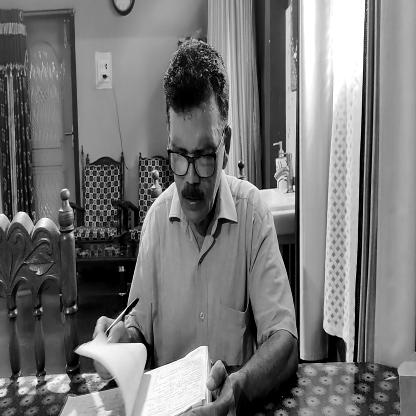Normal: (164, 40, 228, 221)
